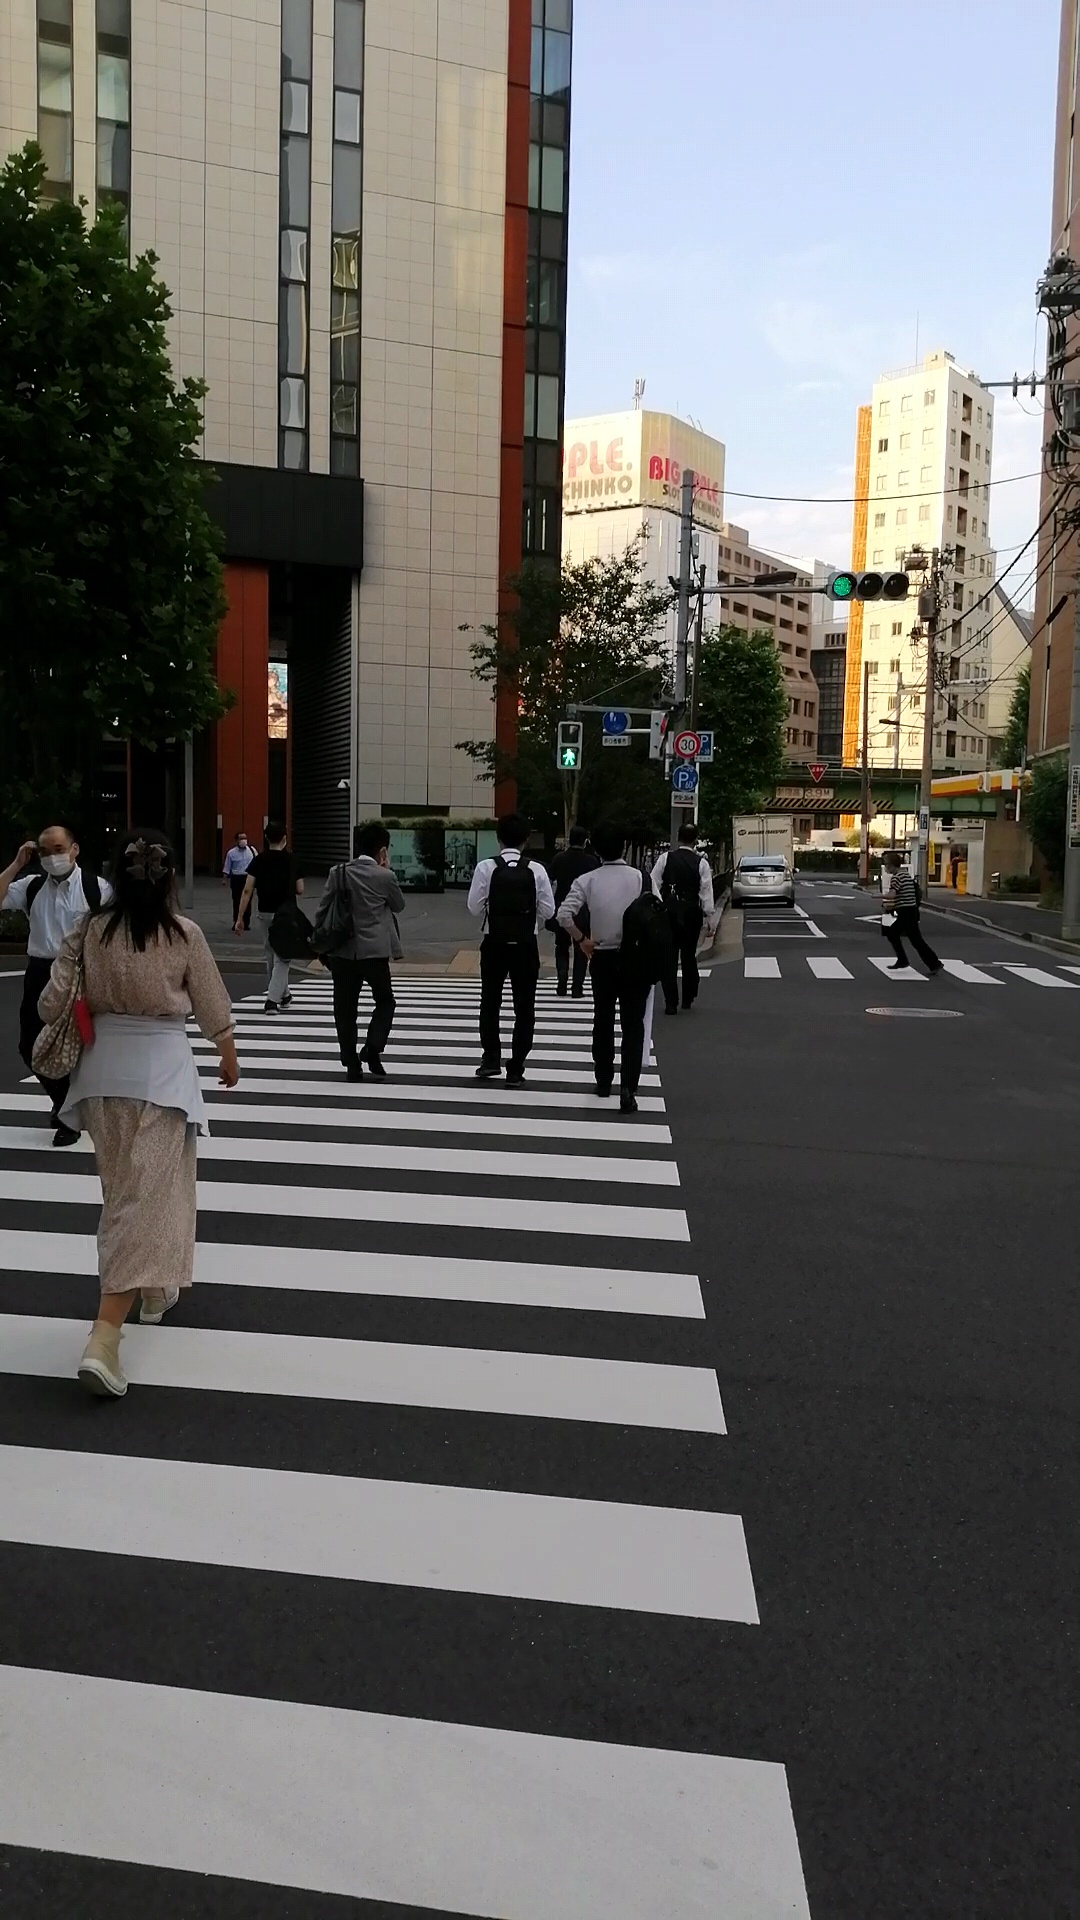green: (556, 719, 584, 771)
